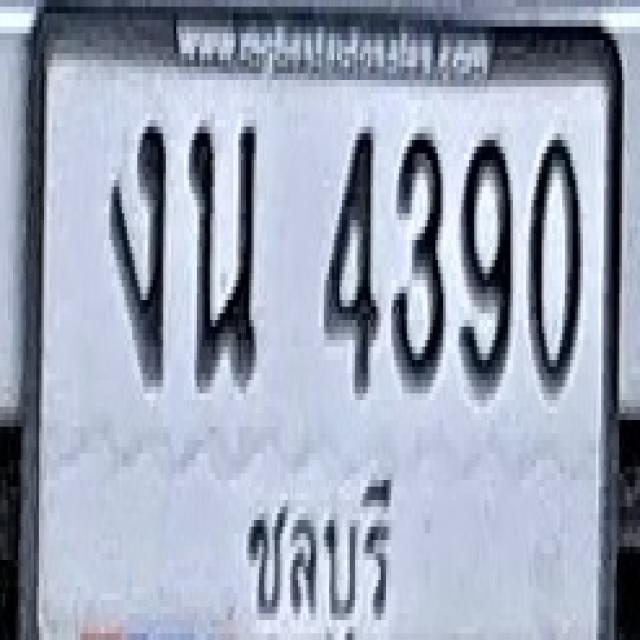-: (189, 117, 257, 383), (109, 116, 166, 376)
0: (528, 130, 580, 390)
3: (391, 124, 443, 384)
4: (324, 123, 378, 390)
9: (460, 130, 512, 390)
CBI: (236, 465, 398, 640)
